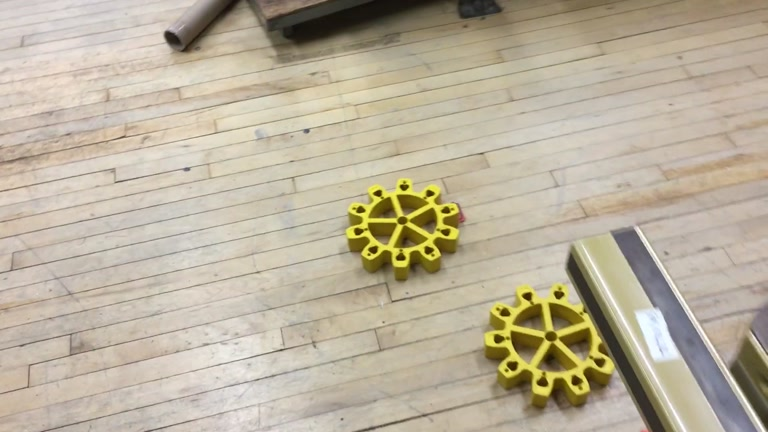gear: (483, 281, 622, 409), (345, 176, 461, 282)
